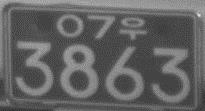0: (55, 12, 83, 38)
3: (150, 46, 190, 104), (15, 39, 53, 97)
6: (104, 44, 145, 102)
7: (86, 14, 115, 39)
8: (59, 42, 100, 100)
우: (119, 16, 147, 40)
